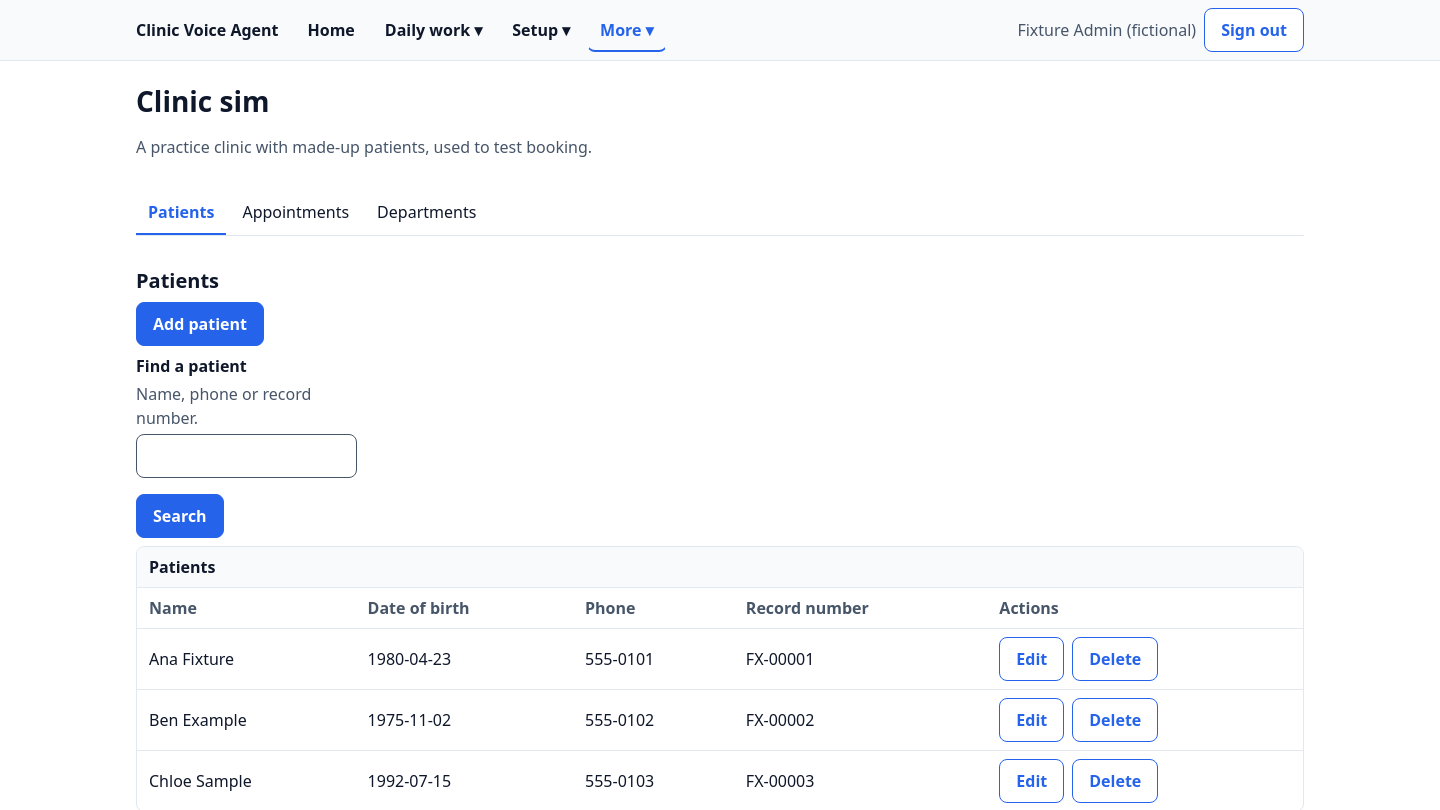
Test case: T-CLINIC-PAGES: patients tab › search filters the list, and an unmatched search shows the filtered-empty state
Check: the number of rows is 4, box x1=137 y1=587 x2=1303 y2=628; x1=137 y1=628 x2=1303 y2=689; x1=137 y1=689 x2=1303 y2=750; x1=137 y1=750 x2=1303 y2=809
Type "Ben" into the field with test id "clinic-patient-q".
click(246, 456); type("Ben")  # box x1=136 y1=434 x2=357 y2=478
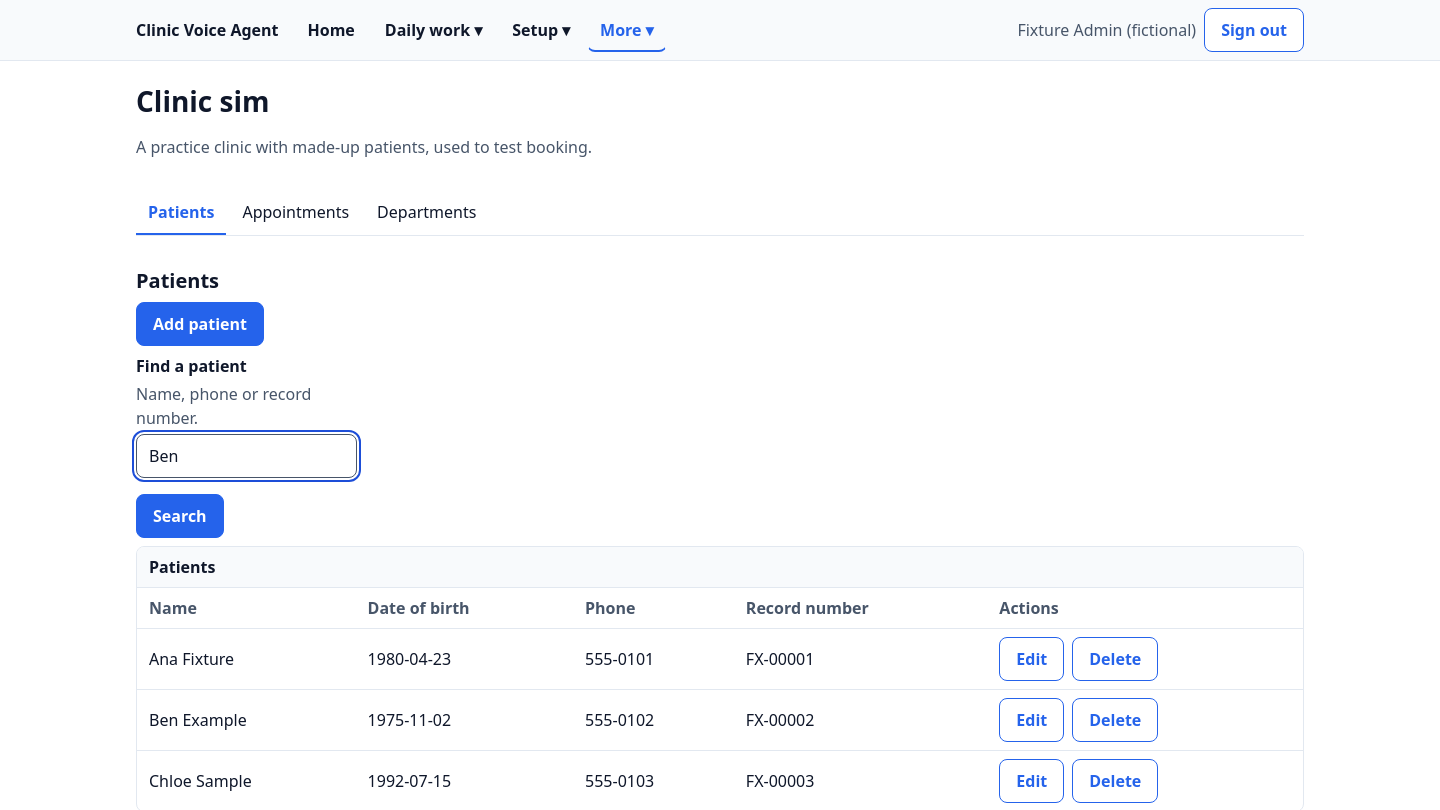
Click the button with test id "clinic-patient-search-submit".
click(180, 516)  # box x1=136 y1=494 x2=224 y2=538
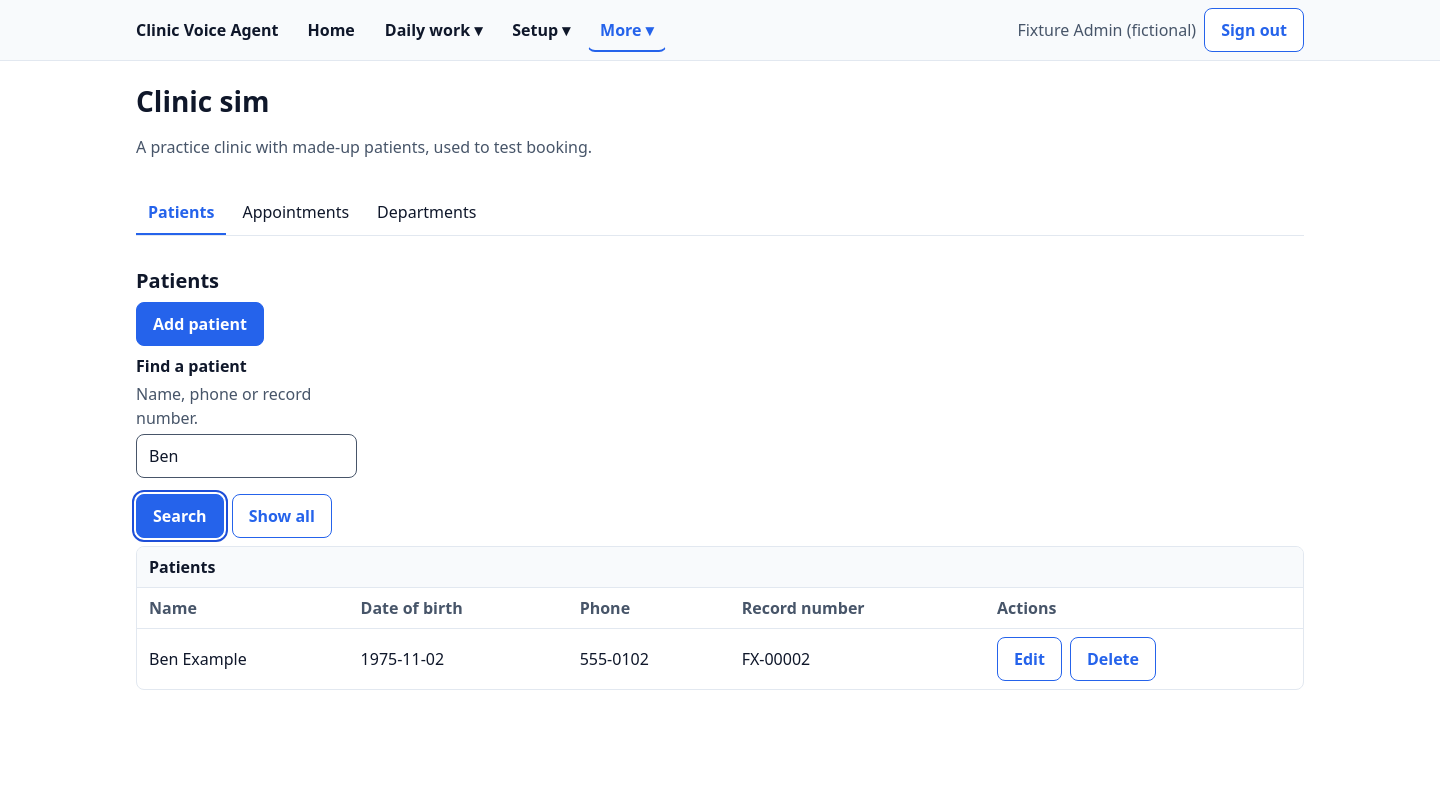
Check: the number of rows is 2, box x1=137 y1=587 x2=1303 y2=628; x1=137 y1=628 x2=1303 y2=689
Check: the text "Ana Fixture" is gone
Replace the text in the field with test id "clinic-patient-q" with "nobody" at {"x": 246, "y": 456}, box x1=136 y1=434 x2=357 y2=478
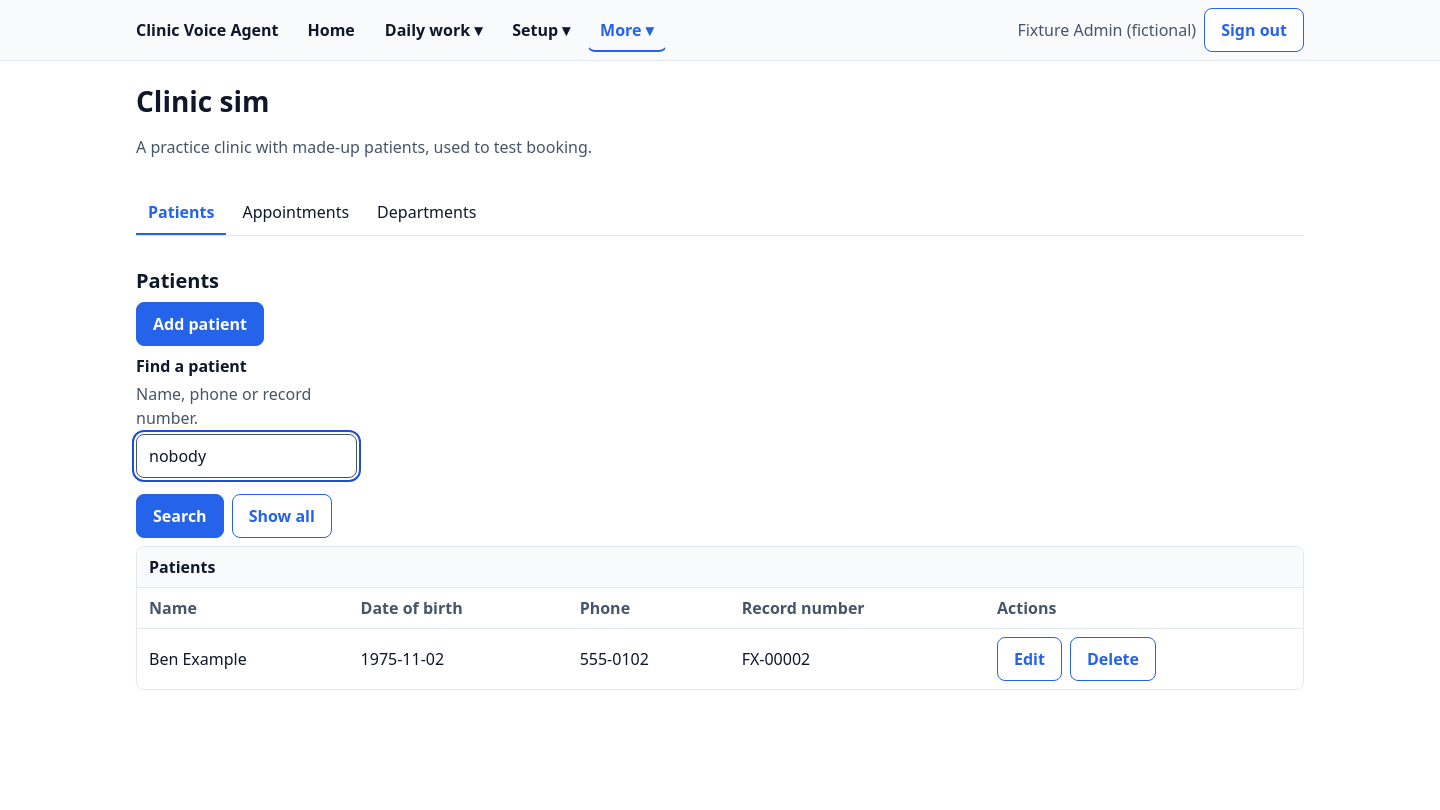
Click the button with test id "clinic-patient-search-submit".
click(180, 516)  # box x1=136 y1=494 x2=224 y2=538
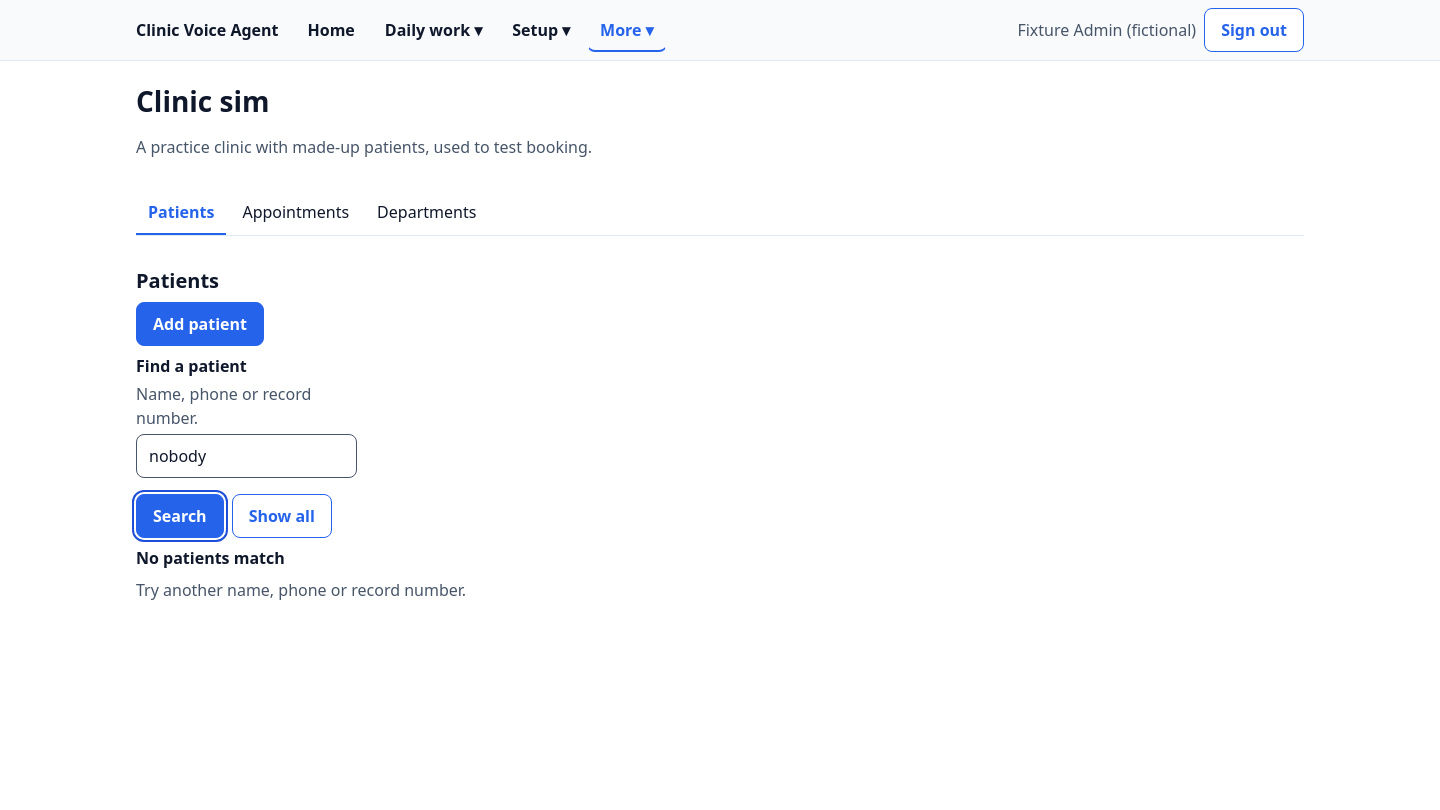
Check: the element with test id "clinic-patients-filtered-empty" shows "No patients match", box x1=136 y1=547 x2=285 y2=569
